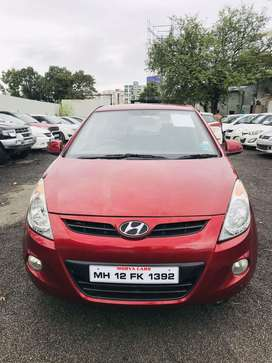MH12FK1392: (89, 264, 178, 284)
